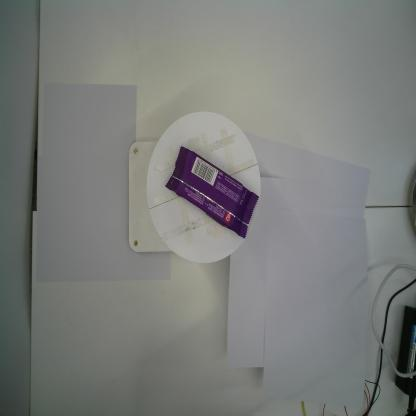Dessert: (164, 146, 260, 239)
